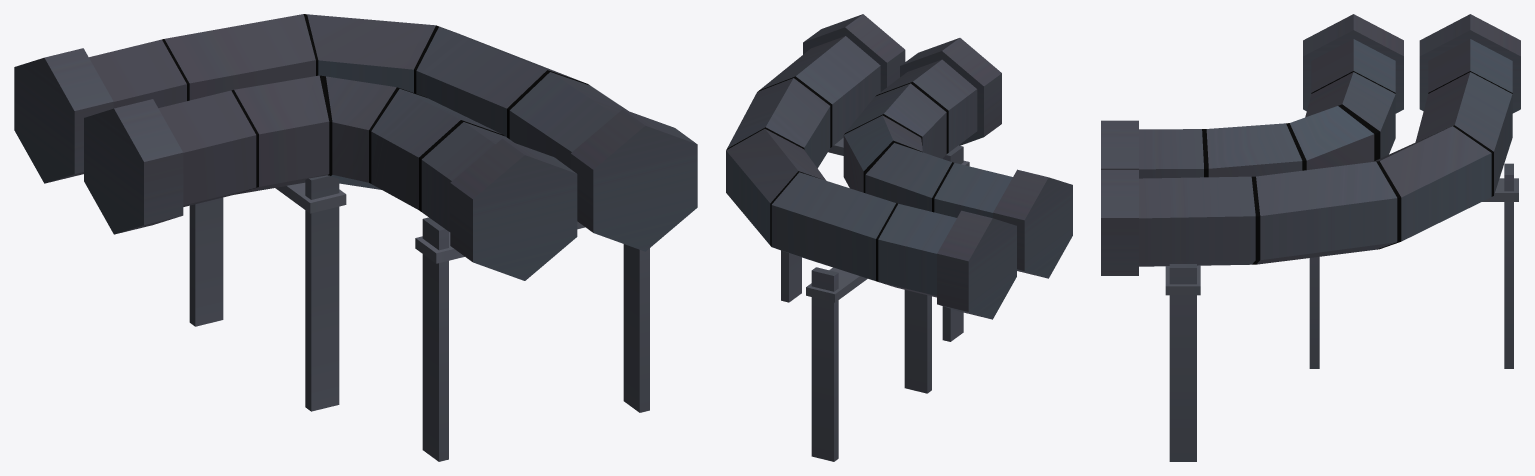
The model's file is SM_Pipe_5.FBX.
3 renders of one model, left to right at view 1: azimuth 30°, elevation 25°; view 2: azimuth 150°, elevation 25°; view 3: azimuth 270°, elevation 25°, orthographic. The views are drawn at different scales.
Parts seen in each view (by area): view 1: SM_Pipe_5; view 2: SM_Pipe_5; view 3: SM_Pipe_5.
Part boxes in pixels (left/top/right/bottom): SM_Pipe_5: left=14, top=14, right=697, bottom=461; SM_Pipe_5: left=726, top=14, right=1072, bottom=461; SM_Pipe_5: left=1101, top=14, right=1520, bottom=461.
Size of what is drawn, in the model's own units: 345 by 345 by 248.
